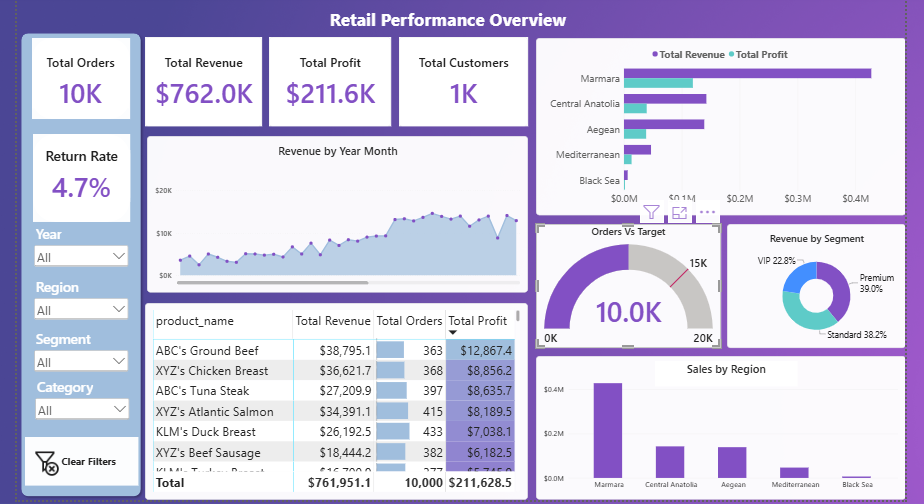

What the dashboard file says about the page in this screenshot:
{"tool":"powerbi","page":{"name":"Page 1","canvas":[1920,1080],"ordinal":0},"visuals":[{"type":"group","id":"g1","title":"BG","box":[0,17,1919.8,1063],"z":0},{"type":"shape","box":[0,61.6,276.4,1018.3],"z":0,"group":"g1"},{"type":"donutChart","title":"Revenue by Segment","fields":{"Category":["customers.customer_segment"],"Y":["measures_table.total_revenue"]},"box":[1532.8,484.7,386.1,268.2],"z":1000},{"type":"textbox","box":[276.4,17,1620,63.8],"z":2000,"group":"g1"},{"type":"pivotTable","fields":{"Rows":["products.product_name"],"Values":["measures_table.total_revenue","measures_table.Total Orders","measures_table.Total Profit"]},"box":[276.4,654.8,827,425.2],"z":2000},{"type":"clusteredBarChart","fields":{"Category":["customers.region"],"Y":["measures_table.total_revenue","measures_table.total_profit"]},"box":[1120.4,80.8,799.4,382.7],"z":3000,"group":"g1"},{"type":"gauge","title":"Orders Vs Target","fields":{"Y":["measures_table.total_orders"]},"box":[1120.4,484.7,399.7,267.9],"z":3000},{"type":"cardVisual","fields":{"Data":["measures_table.total_revenue"]},"box":[276.4,80.8,253,193.5],"z":4000},{"type":"clusteredColumnChart","fields":{"Category":["customers.region"],"Y":["Sum(order_details.net_sale)"]},"box":[1120.4,769.6,799.4,310.4],"z":4000,"group":"g1"},{"type":"cardVisual","fields":{"Data":["measures_table.total_profit"]},"box":[544.3,80.8,263.6,193.5],"z":5000},{"type":"cardVisual","fields":{"Data":["measures_table.total_customers"]},"box":[824.9,80.8,278.5,193.5],"z":6000},{"type":"slicer","fields":{"Values":["date_table.Year"]},"box":[31.9,484.7,212.6,112.7],"z":7000},{"type":"slicer","fields":{"Values":["customers.region"]},"box":[31.9,597.4,212.6,112.7],"z":8000},{"type":"slicer","fields":{"Values":["customers.customer_segment"]},"box":[31.9,710.1,212.6,112.7],"z":9000},{"type":"shape","box":[34.6,289.1,209.5,190.1],"z":10000,"group":"g1"},{"type":"slicer","fields":{"Values":["categories.category_name"]},"box":[34.6,814.3,212.6,108.4],"z":10000},{"type":"shape","box":[32.4,82.1,211.7,175],"z":11000},{"type":"lineChart","title":"Revenue by Year Month","fields":{"Category":["date_table.Year Month"],"Y":["measures_table.Total Revenue"]},"box":[280.8,293.8,822.8,338],"z":12000},{"type":"shape","box":[17.2,943.9,244.6,105.1],"z":12000,"group":"g1"},{"type":"textbox","box":[1377.6,780.2,308.3,55.3],"z":13000},{"type":"image","box":[17.2,967.5,85.8,60.1],"z":13000,"group":"g1"},{"type":"textbox","box":[62.6,980.3,184.5,53.6],"z":14000,"group":"g1"},{"type":"cardVisual","fields":{"Data":["measures_table.Return Rate"]},"box":[34,323.1,210.5,110.6],"z":15000},{"type":"cardVisual","fields":{"Data":["measures_table.Total Orders"]},"box":[31.9,123.3,210.5,110.6],"z":16000}]}

Visuals, with their boxes in screenshot pixels (x1, y1, x2, y2):
"BG" group: locate(19, 8, 901, 496)
shape: locate(19, 28, 146, 496)
"Revenue by Segment" donutChart: locate(723, 223, 900, 346)
textbox: locate(146, 8, 890, 37)
pivotTable - products.product_name x measures_table.total_revenue: locate(146, 301, 526, 496)
clusteredBarChart - customers.region x measures_table.total_revenue: locate(534, 37, 901, 213)
"Orders Vs Target" gauge: locate(534, 223, 717, 346)
cardVisual - measures_table.total_revenue: locate(146, 37, 262, 126)
clusteredColumnChart - customers.region x Sum(order_details.net_sale): locate(534, 353, 901, 496)
cardVisual - measures_table.total_profit: locate(269, 37, 390, 126)
cardVisual - measures_table.total_customers: locate(398, 37, 526, 126)
slicer - date_table.Year: locate(34, 223, 132, 274)
slicer - customers.region: locate(34, 274, 132, 326)
slicer - customers.customer_segment: locate(34, 326, 132, 378)
shape: locate(35, 133, 131, 220)
slicer - categories.category_name: locate(35, 374, 133, 424)
shape: locate(34, 38, 131, 118)
"Revenue by Year Month" lineChart: locate(148, 135, 526, 290)
shape: locate(27, 433, 139, 482)
textbox: locate(652, 358, 793, 384)
image: locate(27, 444, 67, 472)
textbox: locate(48, 450, 133, 475)
cardVisual - measures_table.Return Rate: locate(35, 148, 132, 199)
cardVisual - measures_table.Total Orders: locate(34, 57, 131, 107)
